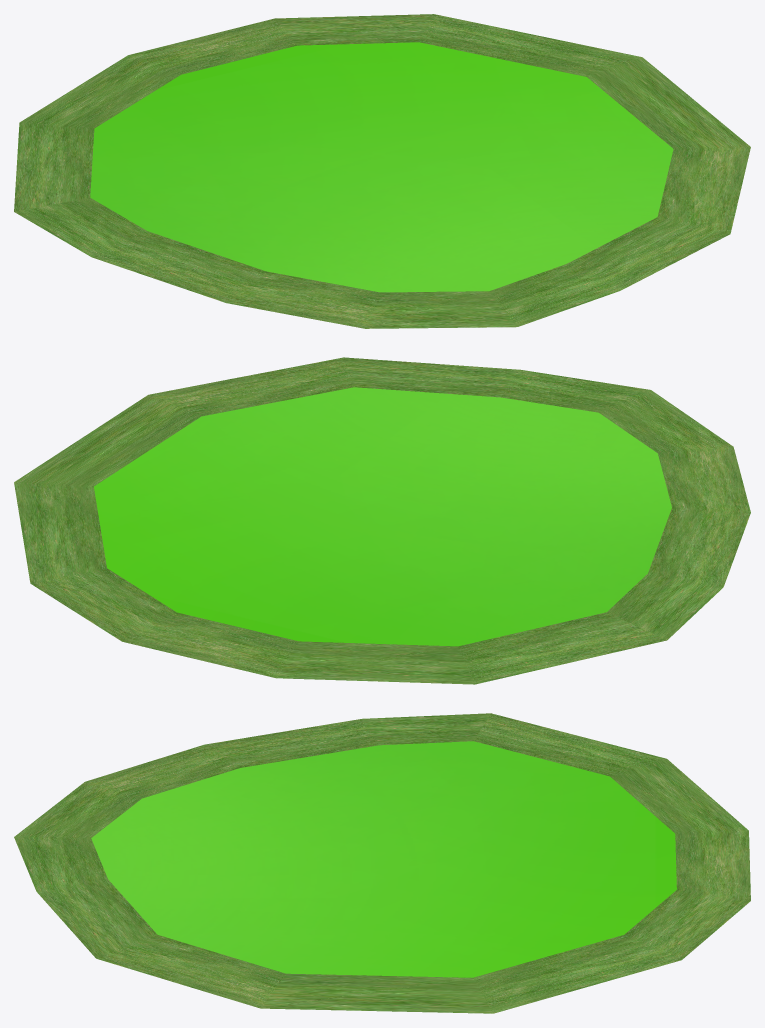
The model's file is sand mesh grass patch.fbx.
3 renders of one model, top to bottom at view 1: azimuth 30°, elevation 25°; view 2: azimuth 150°, elevation 25°; view 3: azimuth 270°, elevation 25°, orthographic. The views are drawn at different scales.
Parts seen in each view (by area): view 1: polySurface144; view 2: polySurface144; view 3: polySurface144.
Boxes of the visible parts, x1=… form: polySurface144: x1=14, y1=14, x2=750, y2=328; polySurface144: x1=14, y1=357, x2=750, y2=684; polySurface144: x1=14, y1=713, x2=750, y2=1013.
Bounding box in the file's own units: 0.077 × 0.0005 × 0.0798.
